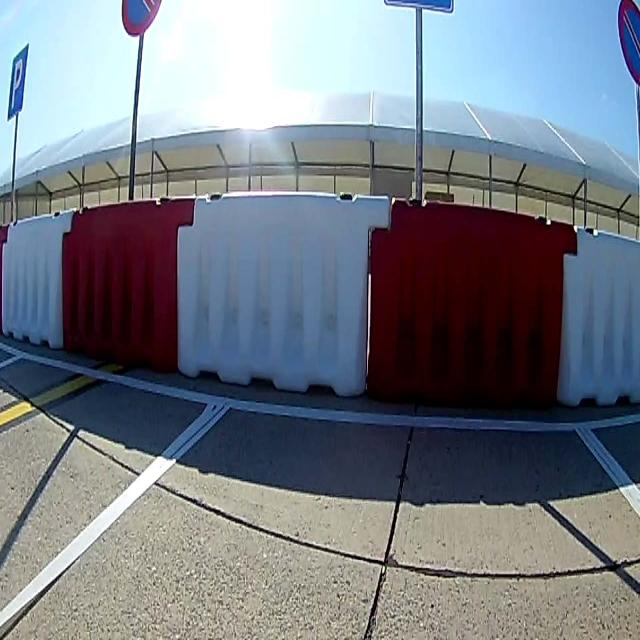park: (8, 49, 28, 114)
